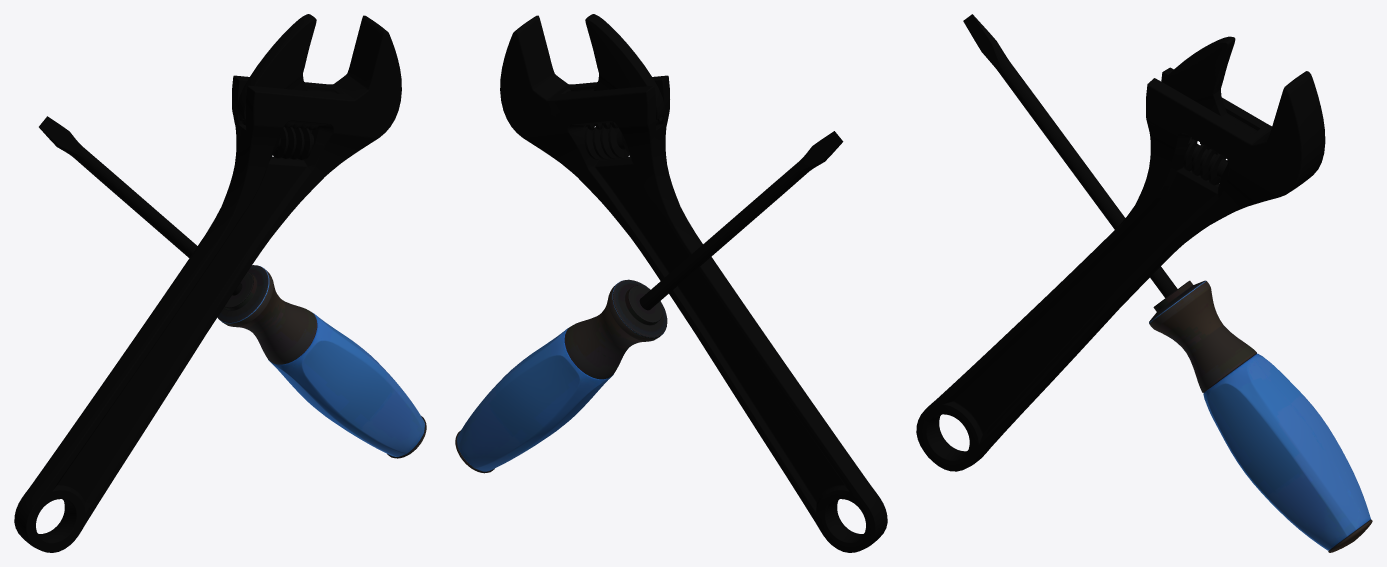
File: tool_treasure.fbx
3 views of the same model, side by side, from view 1: azimuth 30°, elevation 25°; view 2: azimuth 150°, elevation 25°; view 3: azimuth 330°, elevation 25° (orthographic). The views are drawn at different scales.
Parts seen in each view (by area): view 1: root; view 2: root; view 3: root.
Part boxes in pixels (x1,y1,x2,y2): root: [14, 14, 426, 552]; root: [455, 14, 887, 552]; root: [916, 14, 1372, 552].
Bounding box in the file's own units: 0.4712 × 0.512 × 0.0797.
Materials: 1 (1 with a texture image).
